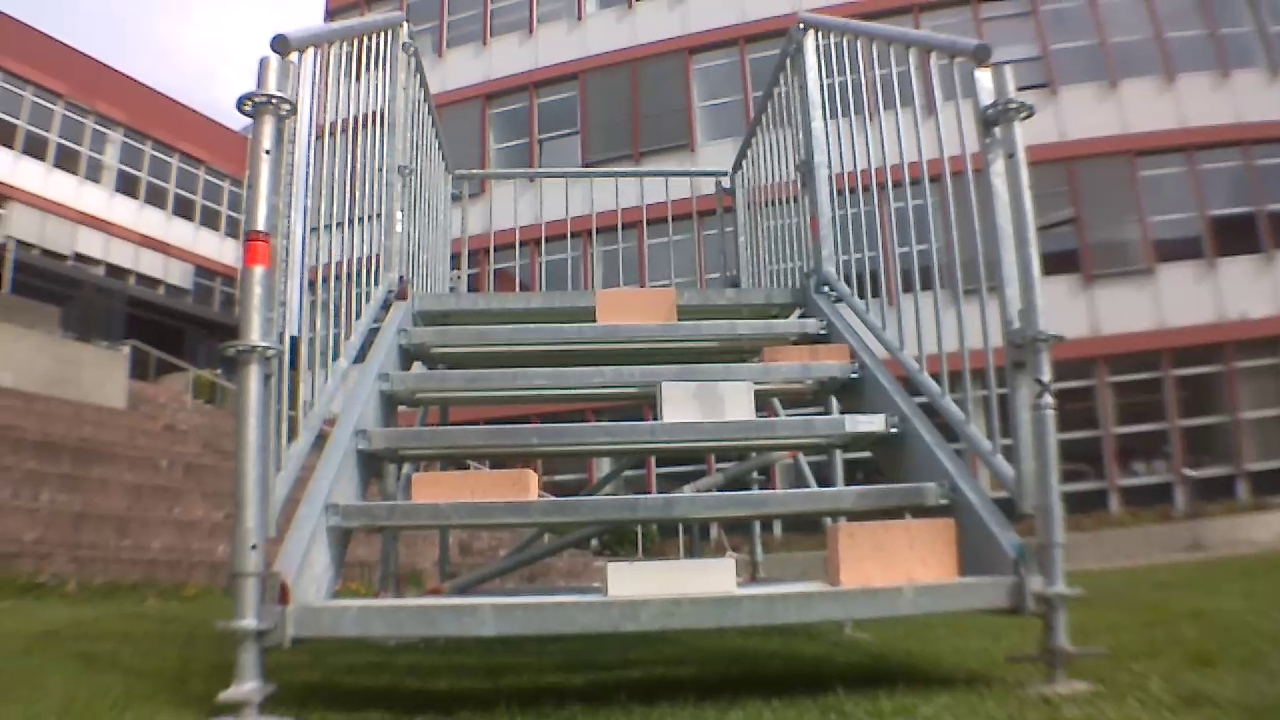brick: (830, 514, 964, 592), (603, 556, 741, 600), (414, 466, 546, 499), (594, 285, 681, 329), (660, 384, 757, 420), (759, 341, 849, 366)
edge: (304, 577, 1035, 633), (328, 478, 957, 523), (355, 413, 906, 452), (380, 361, 871, 394), (395, 317, 834, 348), (410, 285, 803, 310)
stairs: (241, 8, 1079, 682)
steps: (293, 282, 1030, 643)
